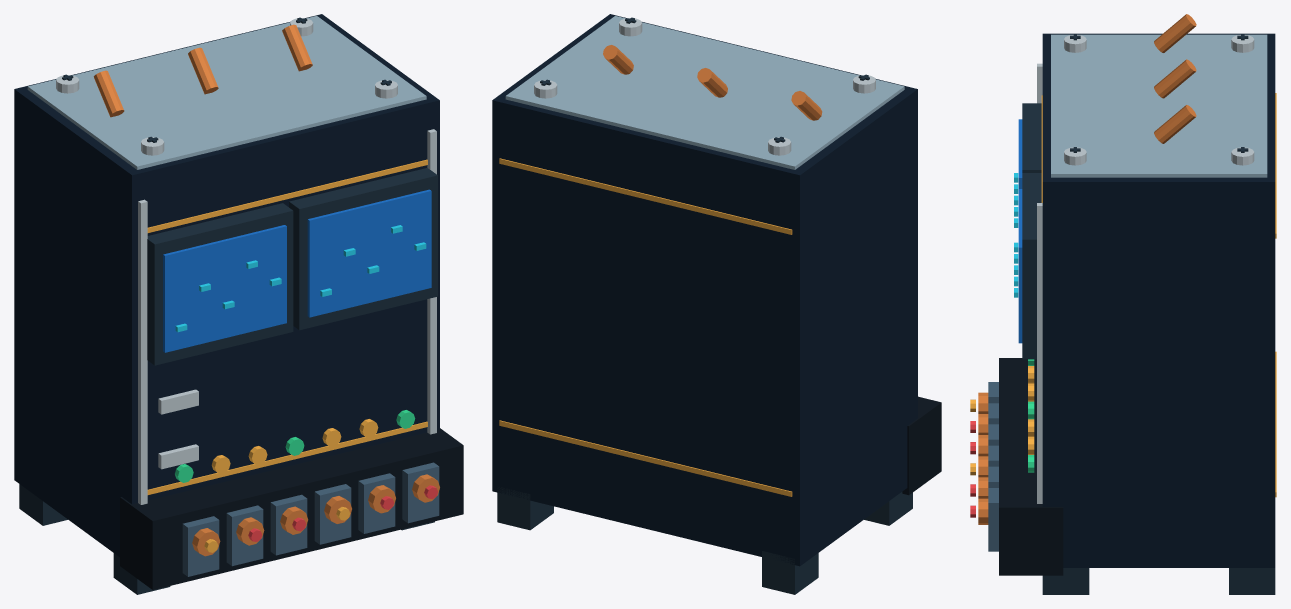
The model's file is 24_L77_BulkCopperEndpointController.fbx.
3 views of the same model, side by side, from view 1: azimuth 30°, elevation 25°; view 2: azimuth 150°, elevation 25°; view 3: azimuth 270°, elevation 25° (orthographic).
Visible parts, largest first — view 1: BulkCopperEndpointController; view 2: BulkCopperEndpointController; view 3: BulkCopperEndpointController.
Boxes of the visible parts, <box> form: BulkCopperEndpointController: <box>14,14,463,594</box>; BulkCopperEndpointController: <box>492,14,941,594</box>; BulkCopperEndpointController: <box>970,14,1276,594</box>.
Size of the model in its own units: 99 by 140 by 85.6.
